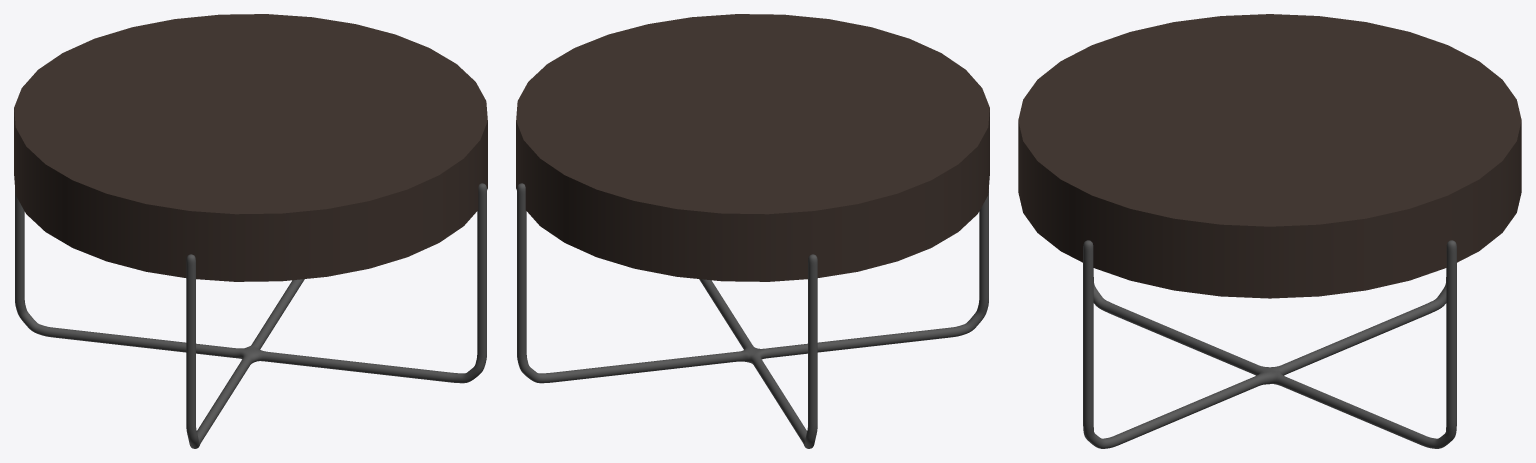
The model's file is coffe_table.glb.
The picture shows the model from 3 angles, left to right: view 1: azimuth 30°, elevation 25°; view 2: azimuth 150°, elevation 25°; view 3: azimuth 270°, elevation 25°; orthographic projection. The views are drawn at different scales.
Visible parts, largest first — view 1: Circle, Plane; view 2: Circle, Plane; view 3: Circle, Plane.
Part boxes in pixels (bbox=[...]): Circle: bbox=[14, 14, 487, 281]; Plane: bbox=[15, 183, 486, 448]; Circle: bbox=[516, 14, 989, 281]; Plane: bbox=[517, 183, 988, 448]; Circle: bbox=[1018, 14, 1521, 298]; Plane: bbox=[1083, 240, 1456, 448].
Size of the model in its own units: 6.34 by 3.62 by 6.34.
2 materials, 1 textured.
